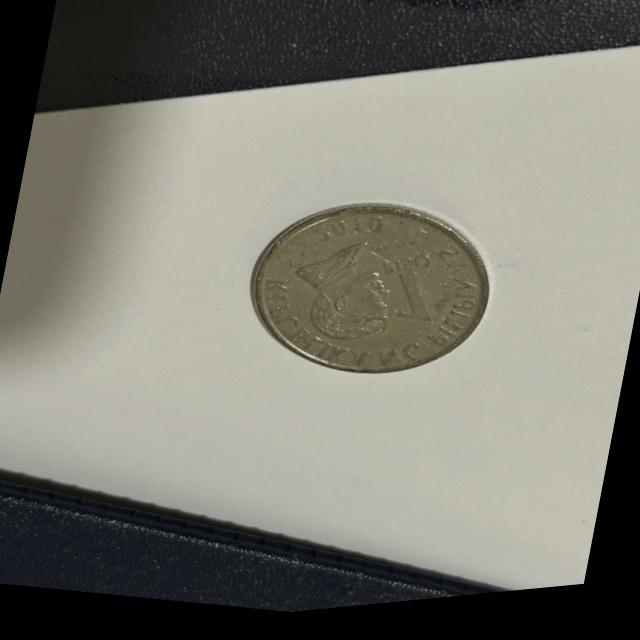1_Old_Front: (372, 252, 440, 336)
